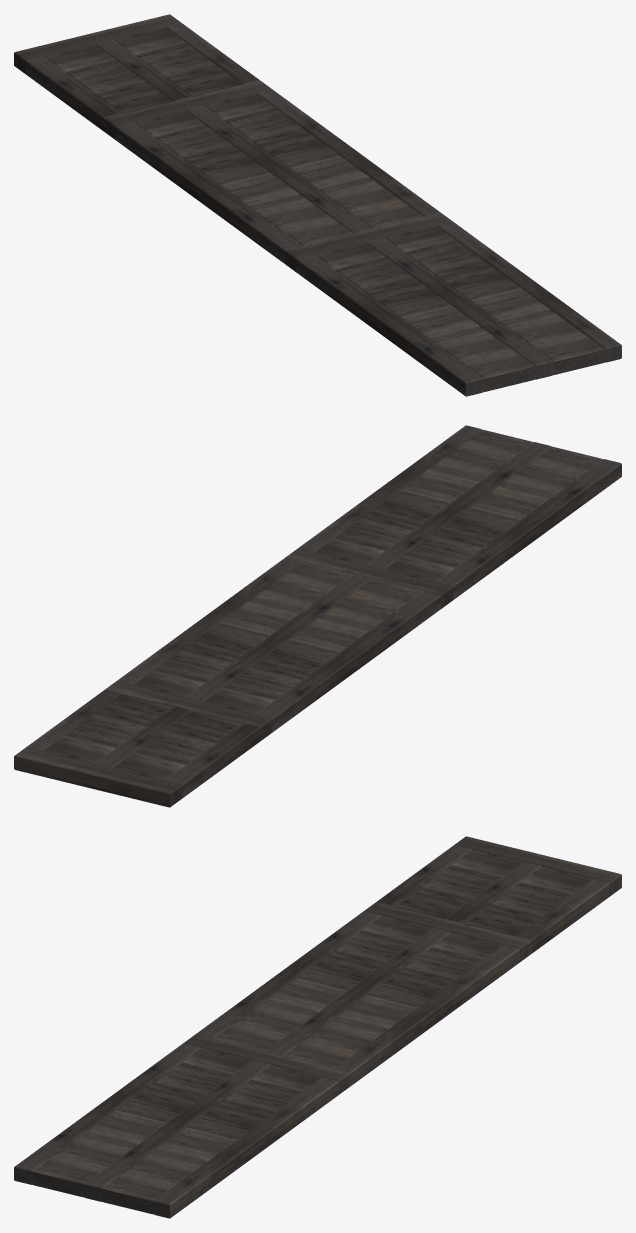
The model's file is SM_Unhyun_Norak_Floor_N001.fbx.
The picture shows the model from 3 angles, top to bottom: view 1: azimuth 30°, elevation 25°; view 2: azimuth 150°, elevation 25°; view 3: azimuth 330°, elevation 25°; orthographic projection.
Parts seen in each view (by area): view 1: SM_Unhyun_Norak_Floor_N001; view 2: SM_Unhyun_Norak_Floor_N001; view 3: SM_Unhyun_Norak_Floor_N001.
Part boxes in pixels (left/top/right/bottom): SM_Unhyun_Norak_Floor_N001: left=14, top=14, right=621, bottom=396; SM_Unhyun_Norak_Floor_N001: left=14, top=425, right=621, bottom=807; SM_Unhyun_Norak_Floor_N001: left=14, top=836, right=621, bottom=1218.
Size of the model in its own units: 131 by 11.89 by 653.
